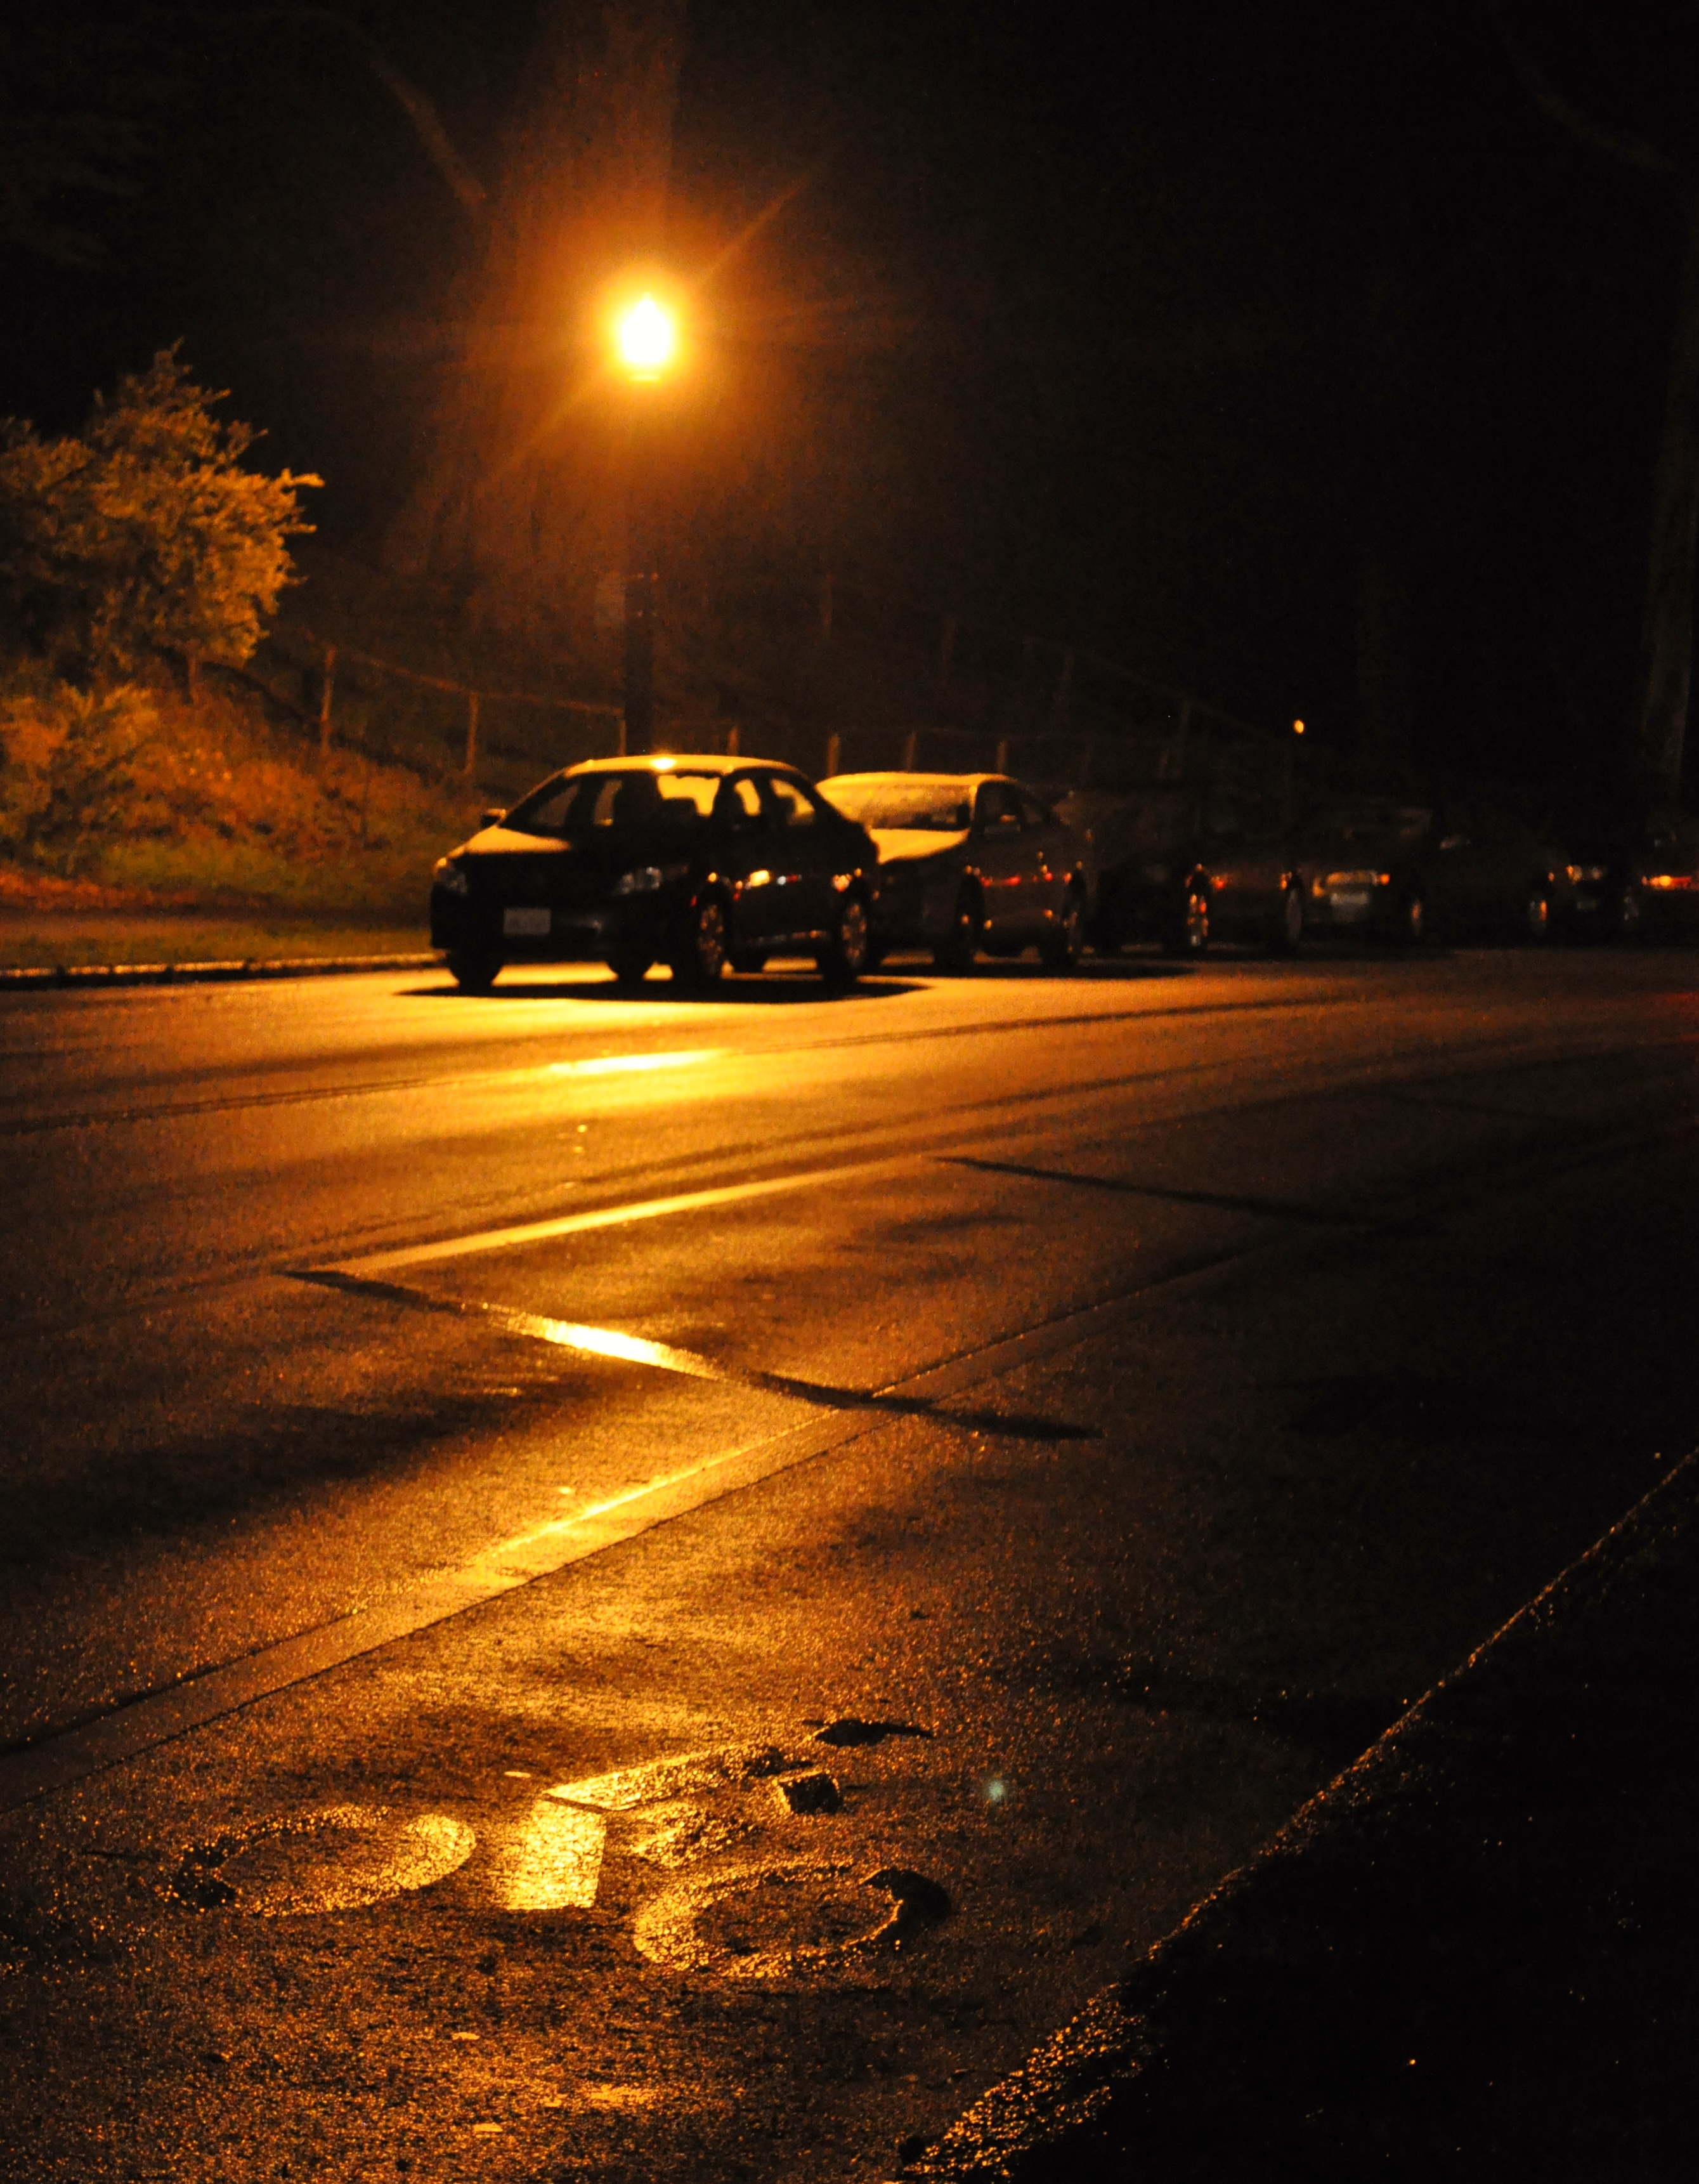car: (1054, 775, 1322, 970)
